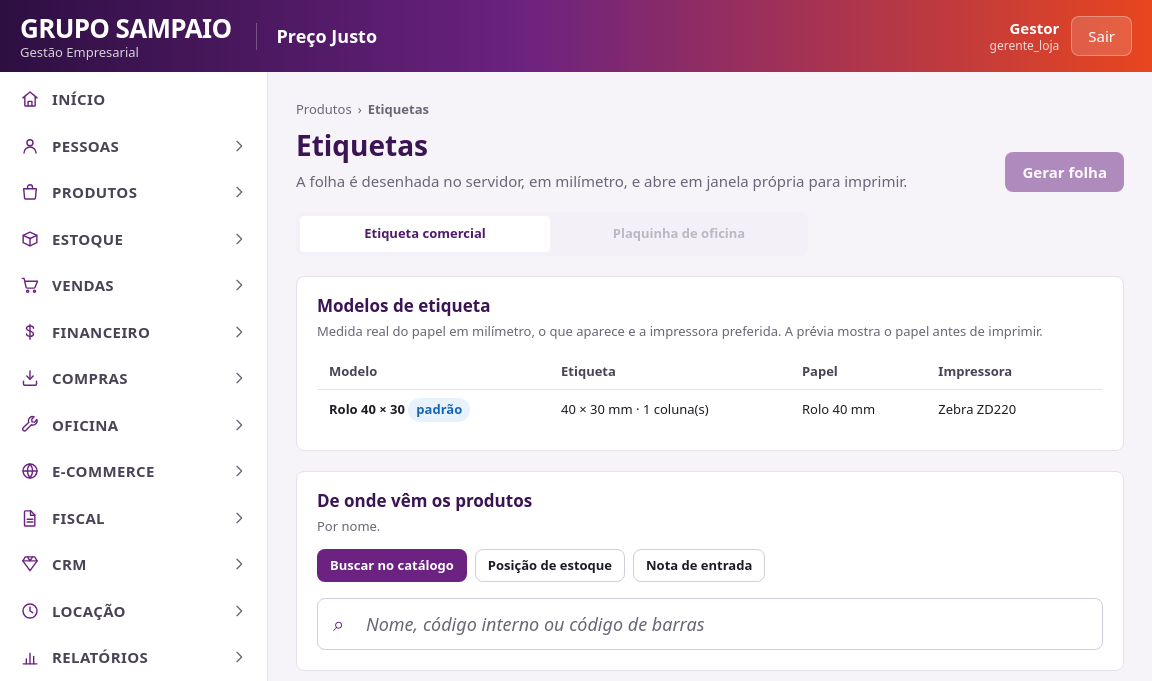
Test case: gerar a folha › sucesso é dito como sucesso: quantas saíram, a impressora a escolher e o aviso de promoção juntos (C-M05, C-18)
Type "sab" into the field with placeholder "Nome, código interno ou código de barras" at (710,624), box [317,598,1103,650]
(page scrolled)
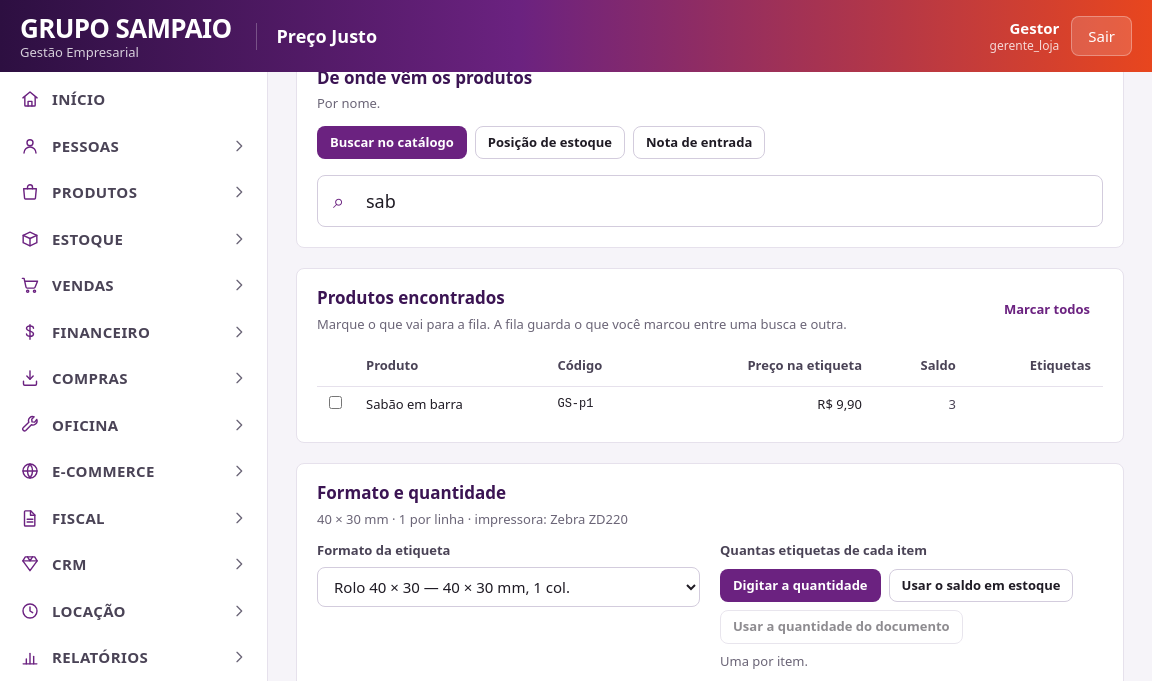
Click the checkbox named "Selecionar Sabão em barra" at (336,402), box [329,396,342,408]
(page scrolled)
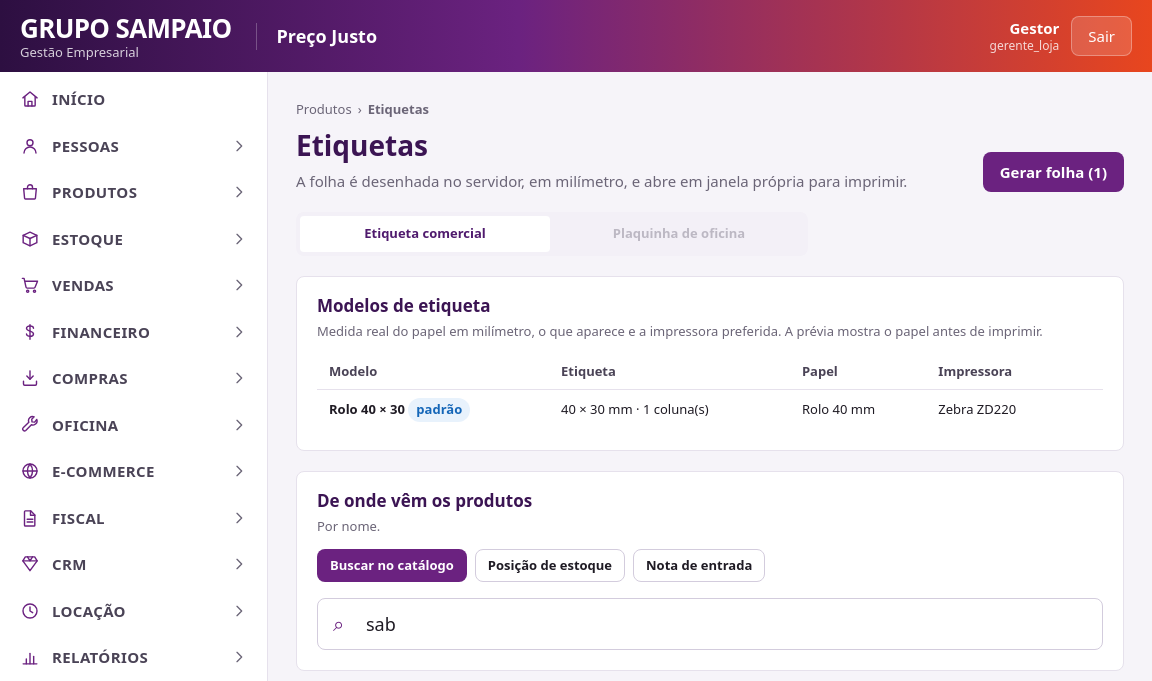
Click the button "Gerar folha (1)" at (1053,172), box [983,152,1124,192]
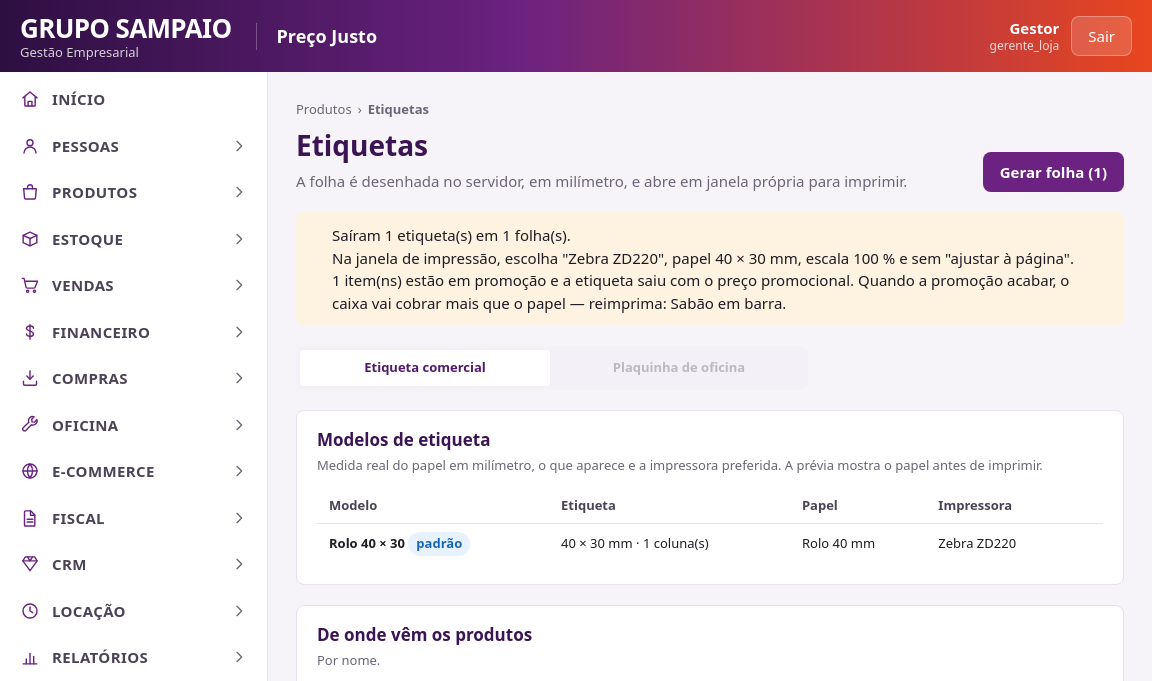
Now the message with test id "avisos-da-folha" shows "Saíram 1 etiqueta(s) em 1 folha(s)", box [332,225,571,245]
Now the message with test id "avisos-da-folha" shows "escolha \"Zebra ZD220\"", box [332,248,1074,268]
Now the message with test id "avisos-da-folha" shows "promoção", box [332,270,1070,312]
